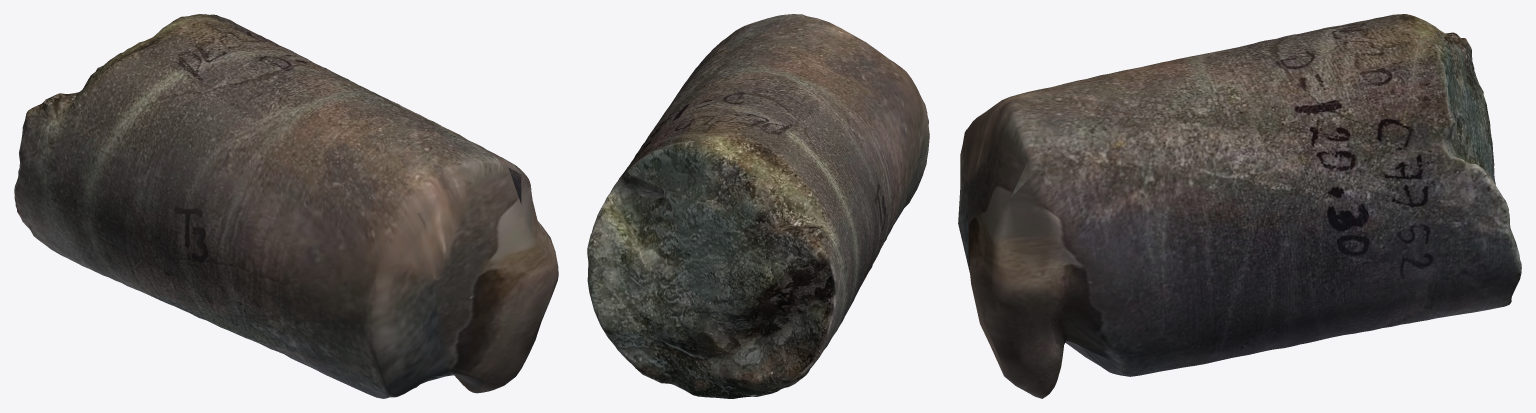
File: PECLD07752 T3.glb
The picture shows the model from 3 angles, left to right: view 1: azimuth 30°, elevation 25°; view 2: azimuth 150°, elevation 25°; view 3: azimuth 270°, elevation 25°; orthographic projection. The views are drawn at different scales.
Visible parts, largest first — view 1: baked_mesh; view 2: baked_mesh; view 3: baked_mesh.
Boxes of the visible parts, bbox=[...] form: baked_mesh: bbox=[14, 14, 558, 398]; baked_mesh: bbox=[587, 14, 929, 398]; baked_mesh: bbox=[958, 14, 1521, 398].
Size of the model in its own units: 0.3417 by 0.2603 by 0.4489.
1 material, 1 textured.
